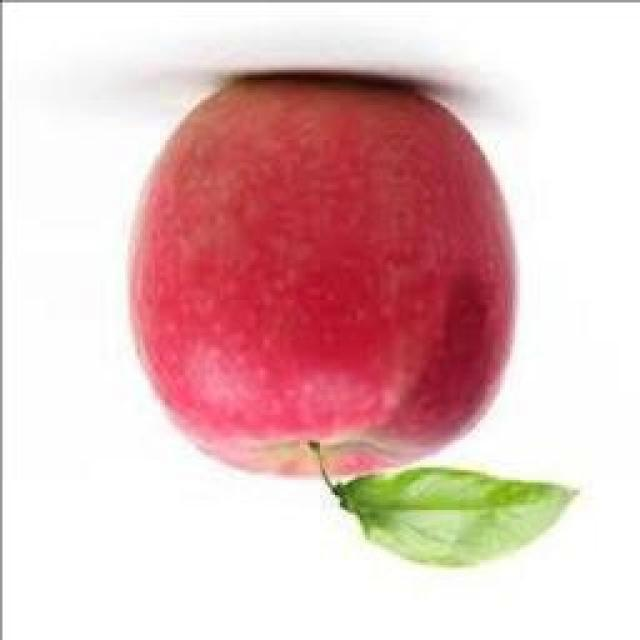Apple: (131, 74, 514, 474)
